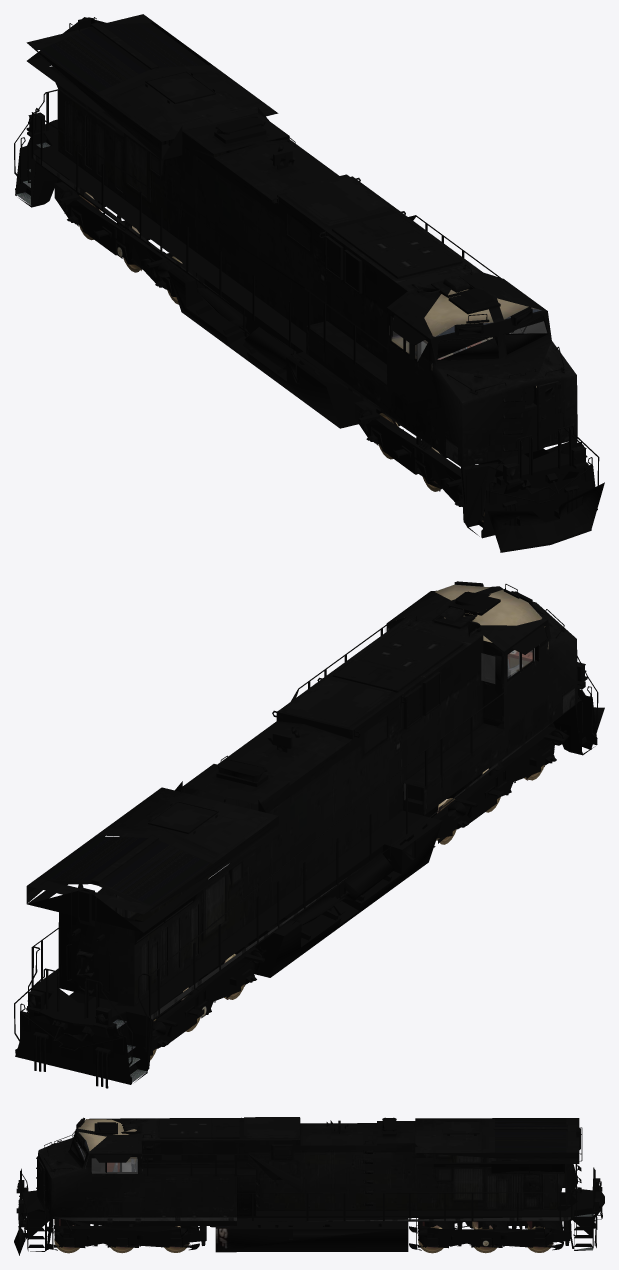
The model's file is locomotive-BOsggH1p.glb.
3 views of the same model, one above another, from view 1: azimuth 30°, elevation 25°; view 2: azimuth 150°, elevation 25°; view 3: azimuth 270°, elevation 25° (orthographic). The views are drawn at different scales.
Parts seen in each view (by area): view 1: DrawCall_0027, DrawCall_0028, DrawCall_0029, DrawCall_0030, DrawCall_163, DrawCall_0026; view 2: DrawCall_0028, DrawCall_0027, DrawCall_0029, DrawCall_0030, DrawCall_163, DrawCall_0026, DrawCall_0152; view 3: DrawCall_0027, DrawCall_0028, DrawCall_0029, DrawCall_163, DrawCall_0030, DrawCall_0048, DrawCall_0026, DrawCall_0152.
Boxes of the visible parts, x1,y1,x2,y2 form: DrawCall_0027: [26, 14, 577, 478]; DrawCall_0028: [15, 90, 604, 552]; DrawCall_0029: [14, 17, 599, 537]; DrawCall_0030: [16, 23, 207, 205]; DrawCall_163: [54, 180, 530, 352]; DrawCall_0026: [389, 289, 545, 387]; DrawCall_0028: [15, 607, 604, 1084]; DrawCall_0027: [26, 584, 577, 1018]; DrawCall_0029: [14, 581, 598, 1088]; DrawCall_0030: [41, 836, 209, 1082]; DrawCall_163: [117, 944, 266, 1068]; DrawCall_0026: [435, 584, 548, 678]; DrawCall_0152: [385, 628, 532, 683]; DrawCall_0027: [20, 1117, 595, 1227]; DrawCall_0028: [14, 1117, 602, 1255]; DrawCall_0029: [18, 1117, 604, 1252]; DrawCall_163: [76, 1140, 570, 1250]; DrawCall_0030: [495, 1119, 592, 1249]; DrawCall_0048: [54, 1219, 552, 1253]; DrawCall_0026: [77, 1119, 137, 1171]; DrawCall_0152: [79, 1146, 137, 1173].
Bounding box in the file's own units: 3.48 × 5 × 21.8.
9 materials, 8 textured.
